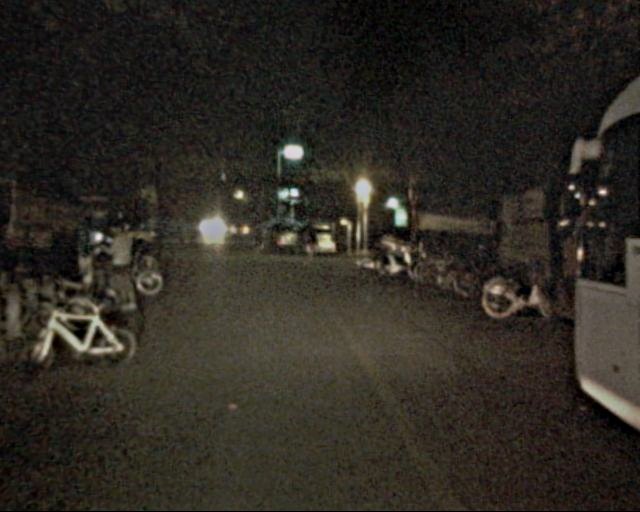person: (102, 215, 141, 311), (301, 223, 320, 269), (251, 225, 264, 257)
